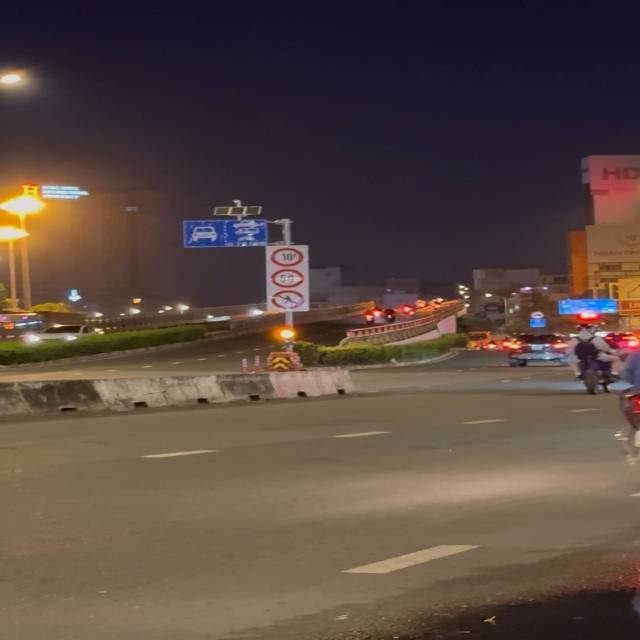Bien bao cam nguoi di bo: (269, 289, 307, 311)
Bien bao toc do toi da cho phep: (269, 268, 308, 288)
